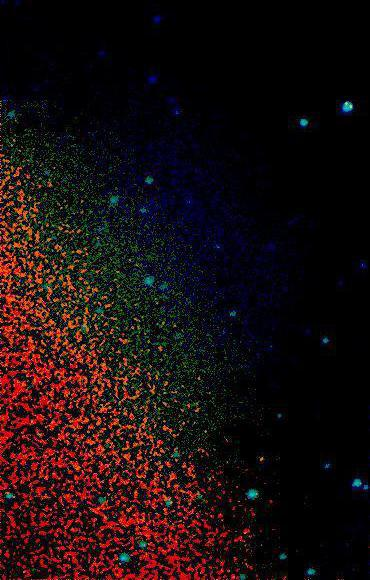star: (245, 445, 275, 475)
